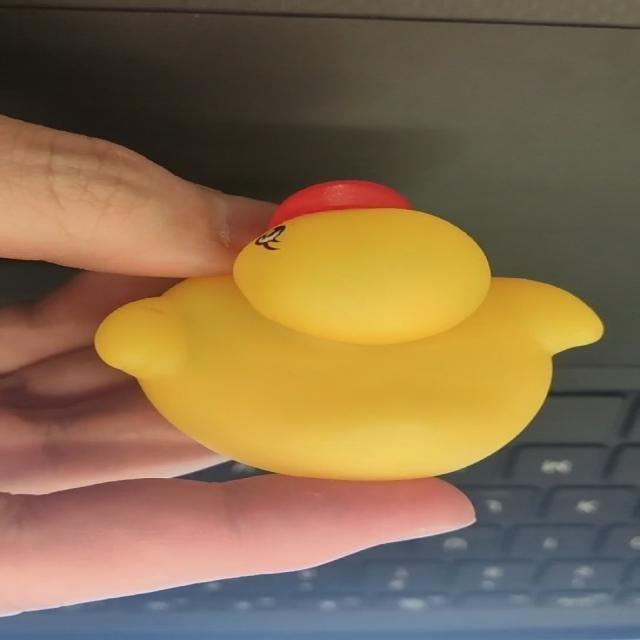rubber-duck: (94, 206, 601, 478)
